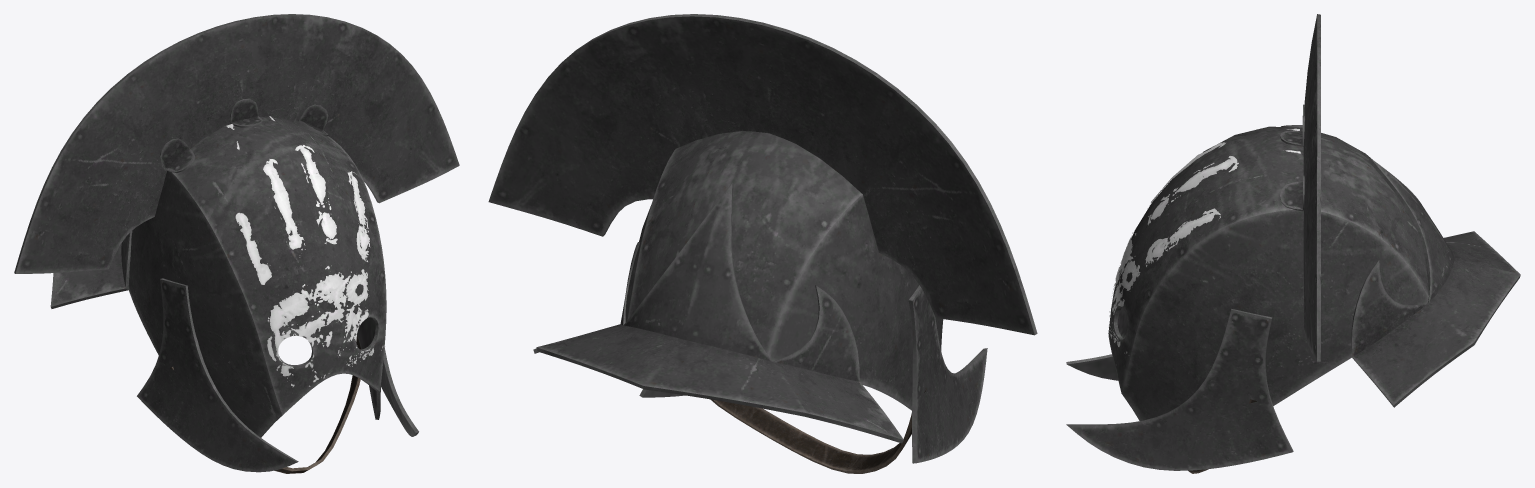
File: sk_uruk_hai_helmet_captain_a1.fbx
3 views of the same model, side by side, from view 1: azimuth 30°, elevation 25°; view 2: azimuth 150°, elevation 25°; view 3: azimuth 270°, elevation 25° (orthographic). The views are drawn at different scales.
Visible parts, largest first — view 1: sk_uruk_hai_helmet_captain_a1.0, sk_uruk_hai_helmet_captain_a1.1, sk_uruk_hai_helmet_captain_a1.2; view 2: sk_uruk_hai_helmet_captain_a1.0, sk_uruk_hai_helmet_captain_a1.2; view 3: sk_uruk_hai_helmet_captain_a1.0, sk_uruk_hai_helmet_captain_a1.1.
Boxes of the visible parts, bbox=[...] form: sk_uruk_hai_helmet_captain_a1.0: bbox=[14, 14, 459, 472]; sk_uruk_hai_helmet_captain_a1.1: bbox=[226, 116, 385, 387]; sk_uruk_hai_helmet_captain_a1.2: bbox=[170, 335, 360, 473]; sk_uruk_hai_helmet_captain_a1.0: bbox=[488, 14, 1037, 463]; sk_uruk_hai_helmet_captain_a1.2: bbox=[710, 388, 926, 473]; sk_uruk_hai_helmet_captain_a1.0: bbox=[1066, 14, 1520, 470]; sk_uruk_hai_helmet_captain_a1.1: bbox=[1108, 128, 1300, 355].
Bounding box in the file's own units: 0.4273 × 0.3626 × 0.375.
3 materials, 3 textured.
